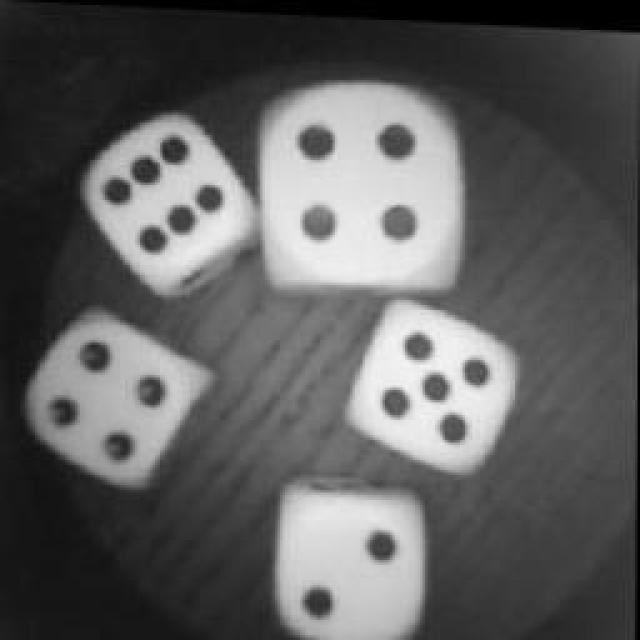dice_2: (269, 467, 439, 640)
dice_4: (254, 67, 476, 305), (22, 302, 212, 498)
dice_5: (348, 288, 520, 472)
dice_6: (76, 96, 264, 294)
